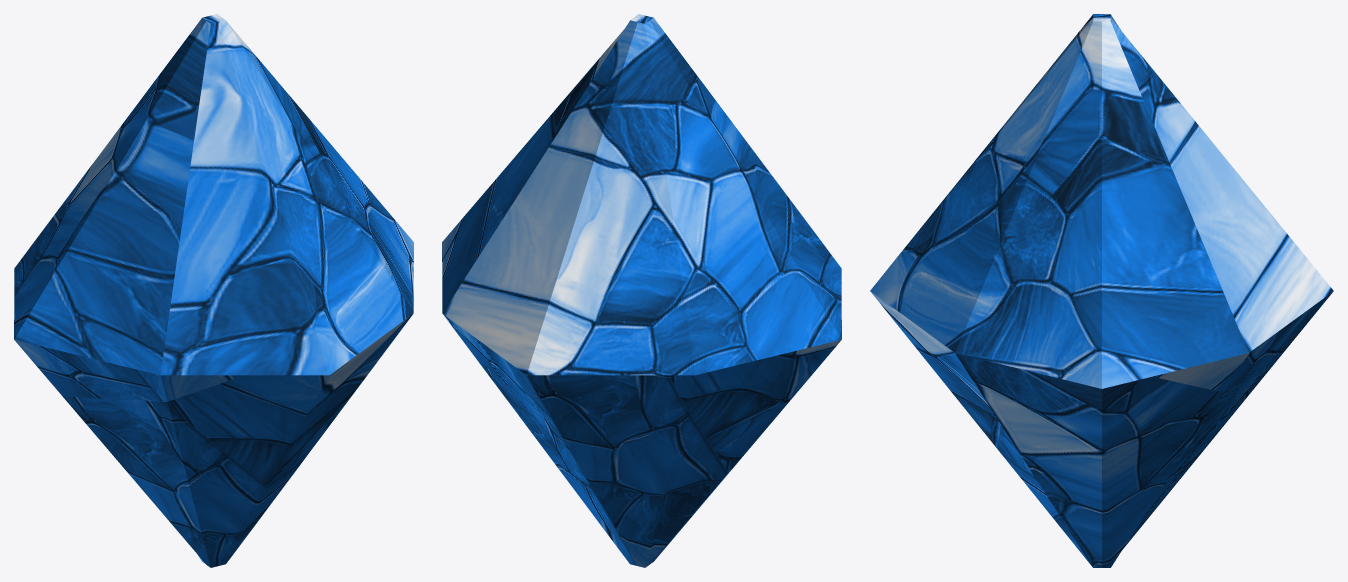
Rendered from gemstone2Blue.glb.
3 views of the same model, side by side, from view 1: azimuth 30°, elevation 25°; view 2: azimuth 150°, elevation 25°; view 3: azimuth 270°, elevation 25° (orthographic).
Parts seen in each view (by area): view 1: gemstone1; view 2: gemstone1; view 3: gemstone1.
Boxes of the visible parts, bbox=[...] form: gemstone1: bbox=[14, 14, 413, 567]; gemstone1: bbox=[442, 14, 841, 567]; gemstone1: bbox=[870, 14, 1333, 567].
Bounding box in the file's own units: 1 × 1.3 × 1.
Materials: 1 (1 with a texture image).
